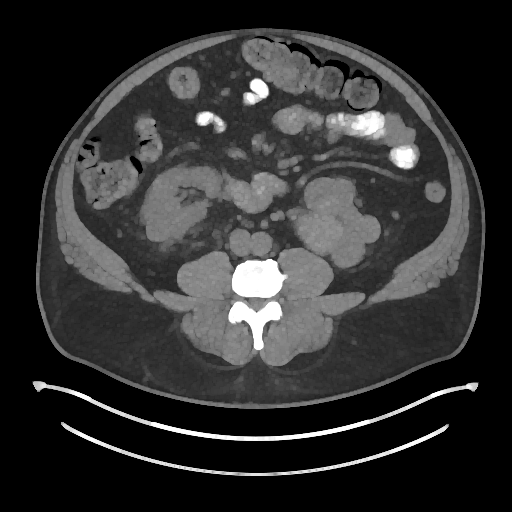Lesion: (296, 211, 346, 255)
